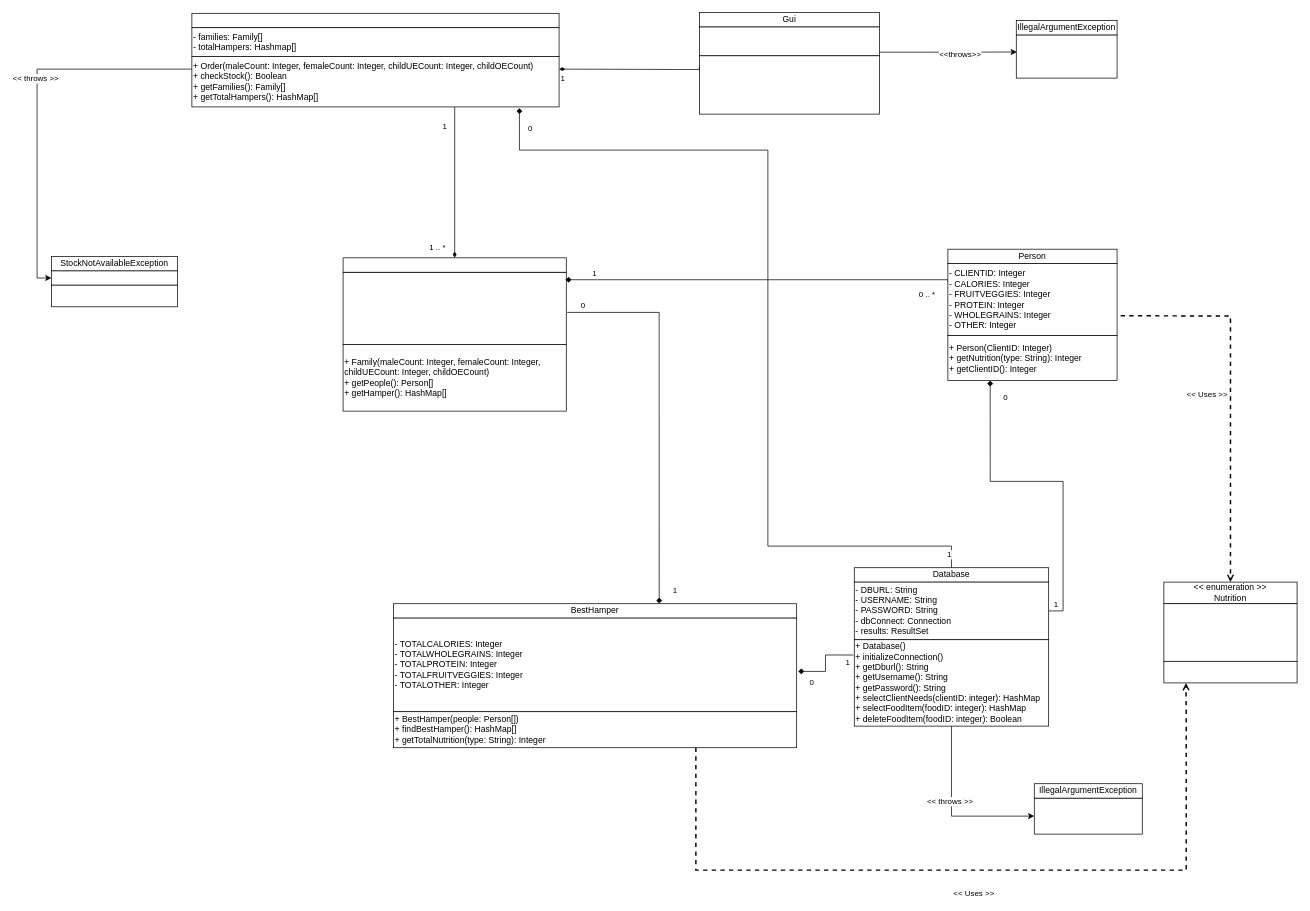
Some shapes in this 1310 by 911 pixel diagram are drawn without their labels. Here are the shapes that lost their labels. From the top down, the centre of each, then its label:
At (x=375, y=20): "Order".
At (x=789, y=41): "- order: Order".
At (x=789, y=84): "+ actionPerformed(ActionEvent event) + getOrder(): Order".
At (x=454, y=264): "Family".
At (x=114, y=295): "StockNotAvailableException()".
At (x=454, y=308): "- people: Person[] - hamper: HashMap[]".
At (x=1230, y=632): "PROTEIN WHOLEGRAINS OTHER CALORIES FRUITSVEGGIES".
At (x=1230, y=672): "+toString(): String".
